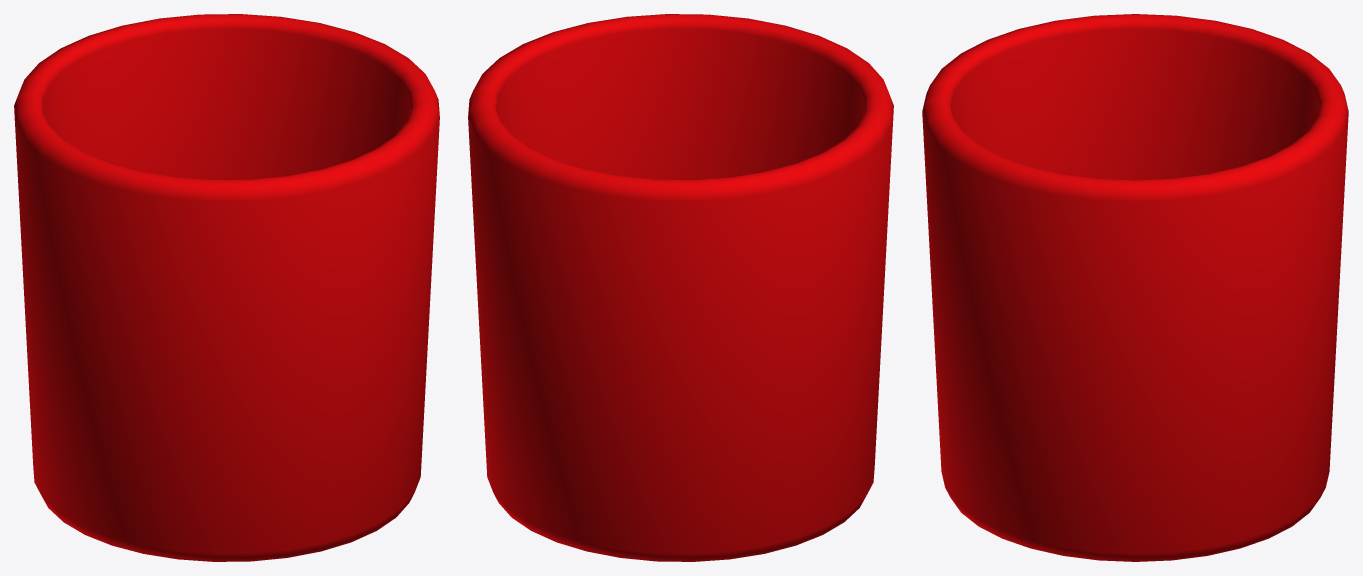
The model's file is GlassRed.fbx.
3 renders of one model, left to right at view 1: azimuth 30°, elevation 25°; view 2: azimuth 150°, elevation 25°; view 3: azimuth 270°, elevation 25°, orthographic.
Parts seen in each view (by area): view 1: Cylinder; view 2: Cylinder; view 3: Cylinder.
Boxes of the visible parts, bbox=[...] form: Cylinder: bbox=[14, 14, 439, 561]; Cylinder: bbox=[468, 14, 893, 561]; Cylinder: bbox=[922, 14, 1348, 561].
Bounding box in the file's own units: 199 × 200 × 199.
